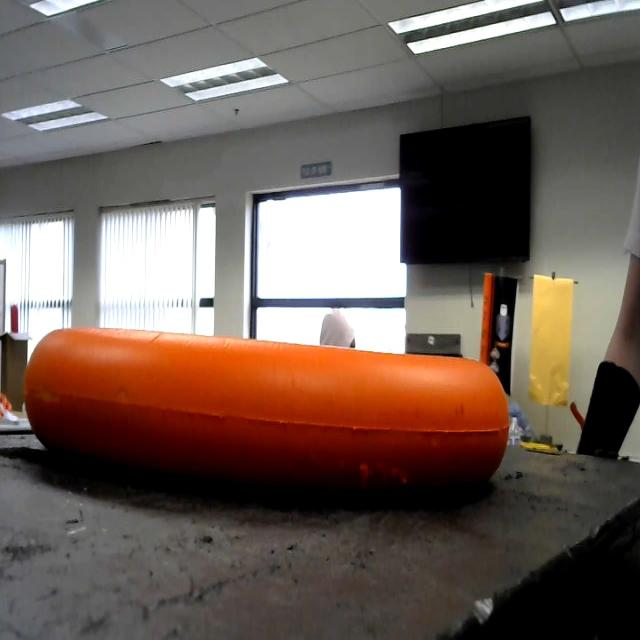note: (19, 296, 519, 524)
